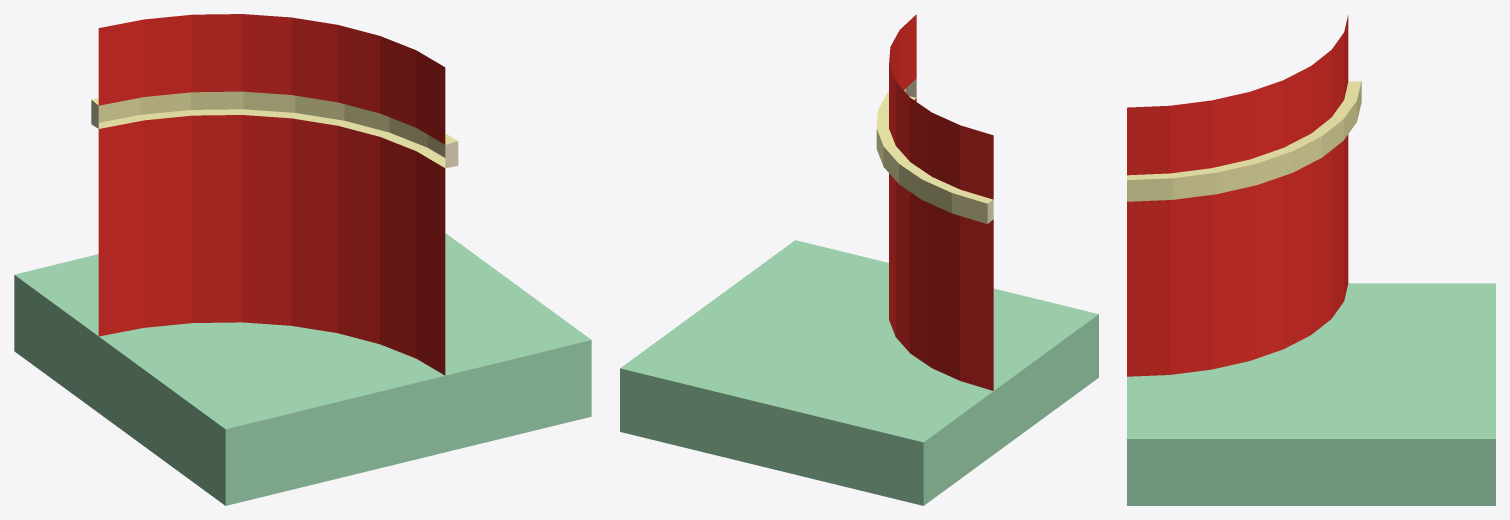
File: SiloDown.fbx
The picture shows the model from 3 angles, left to right: view 1: azimuth 30°, elevation 25°; view 2: azimuth 150°, elevation 25°; view 3: azimuth 270°, elevation 25°; orthographic projection. The views are drawn at different scales.
Visible parts, largest first — view 1: SiloDown; view 2: SiloDown; view 3: SiloDown.
Part boxes in pixels (x1,y1,x2,y2): SiloDown: (14,14,591,505); SiloDown: (620,14,1098,505); SiloDown: (1127,15,1495,505).
Size of the model in its own units: 200 by 201 by 200.
